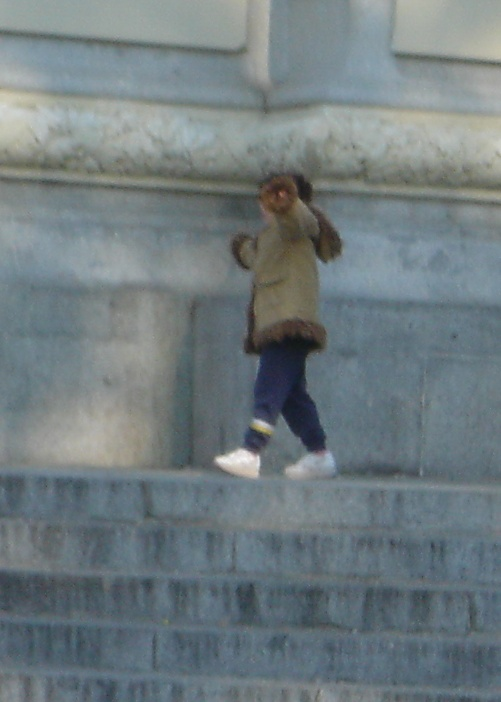person: (227, 174, 335, 479)
